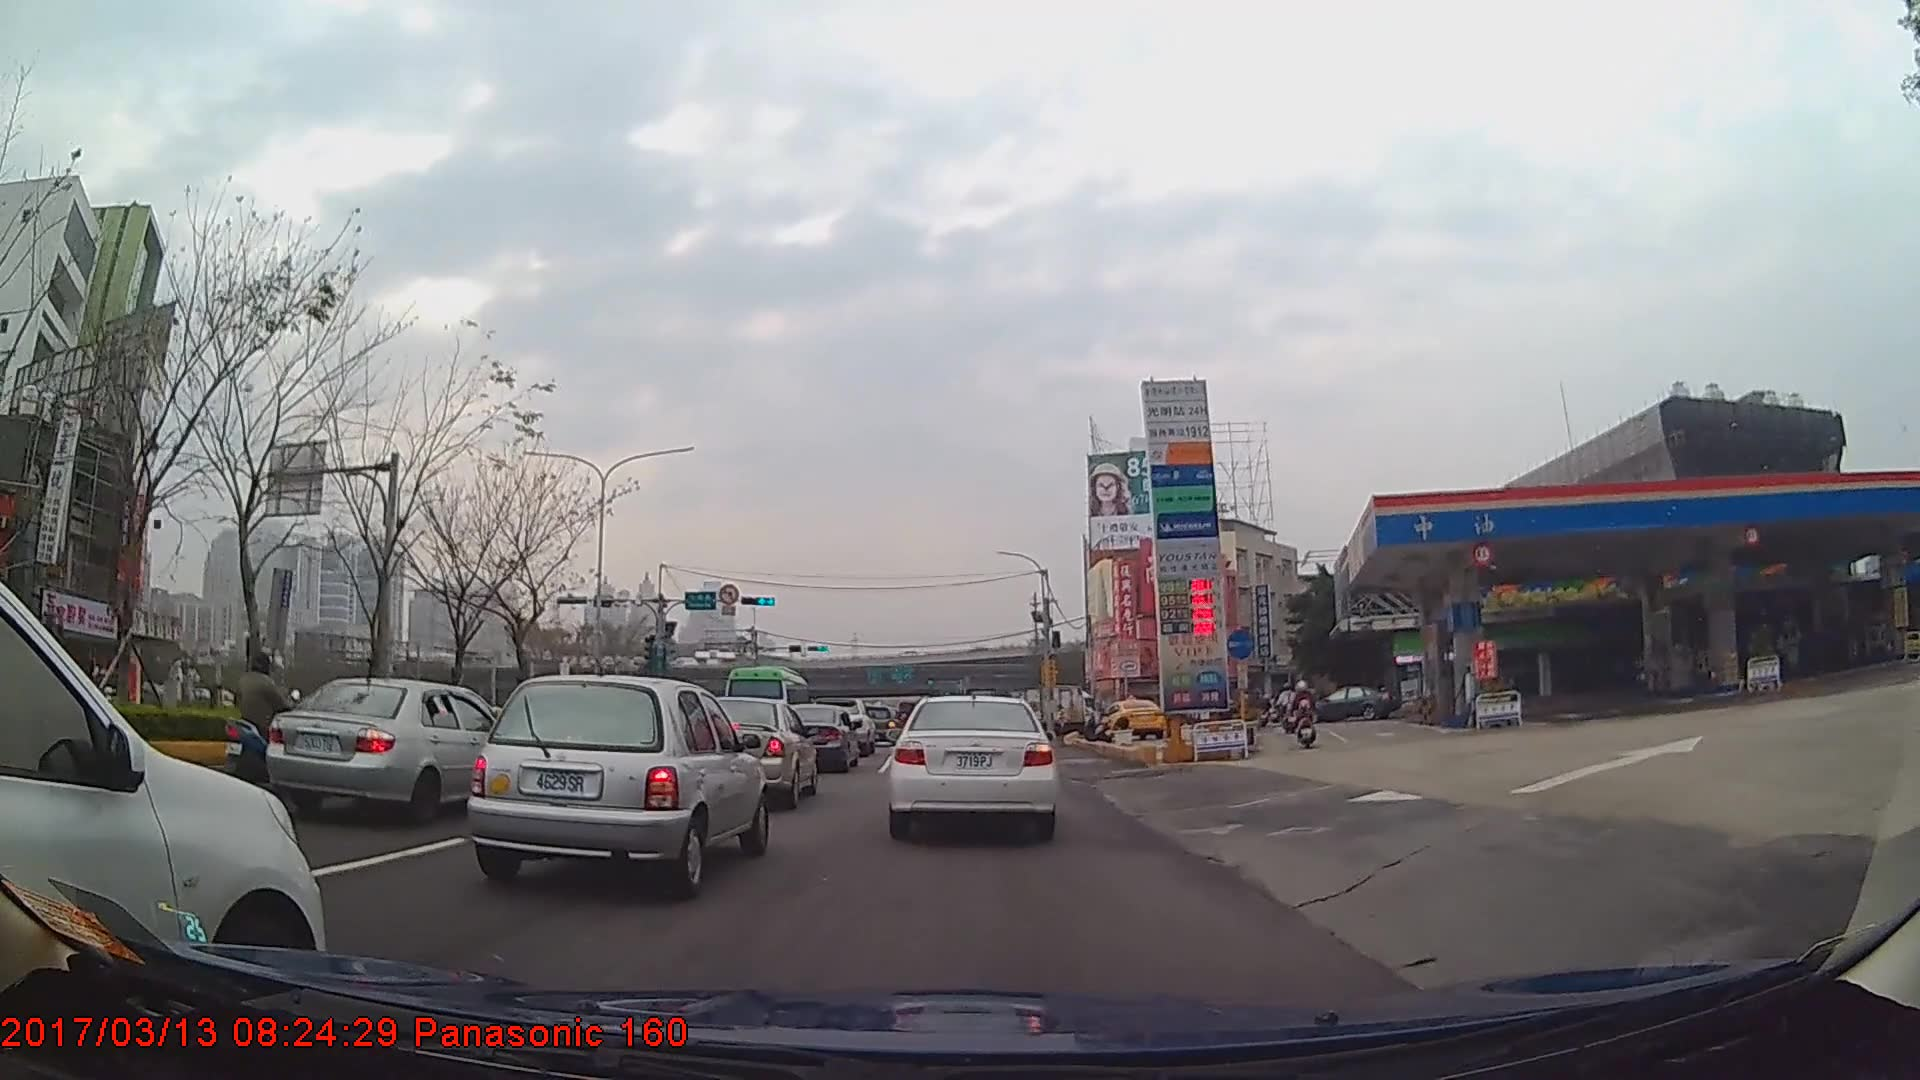rider: (223, 647, 306, 790), (1289, 683, 1318, 749), (1277, 683, 1301, 737)
vehicle: (0, 583, 328, 1013), (463, 670, 769, 893), (263, 676, 526, 823), (887, 691, 1058, 841), (684, 693, 818, 811), (722, 662, 813, 734), (777, 702, 860, 772), (1007, 686, 1099, 740), (1297, 683, 1395, 721), (1103, 697, 1165, 739)
